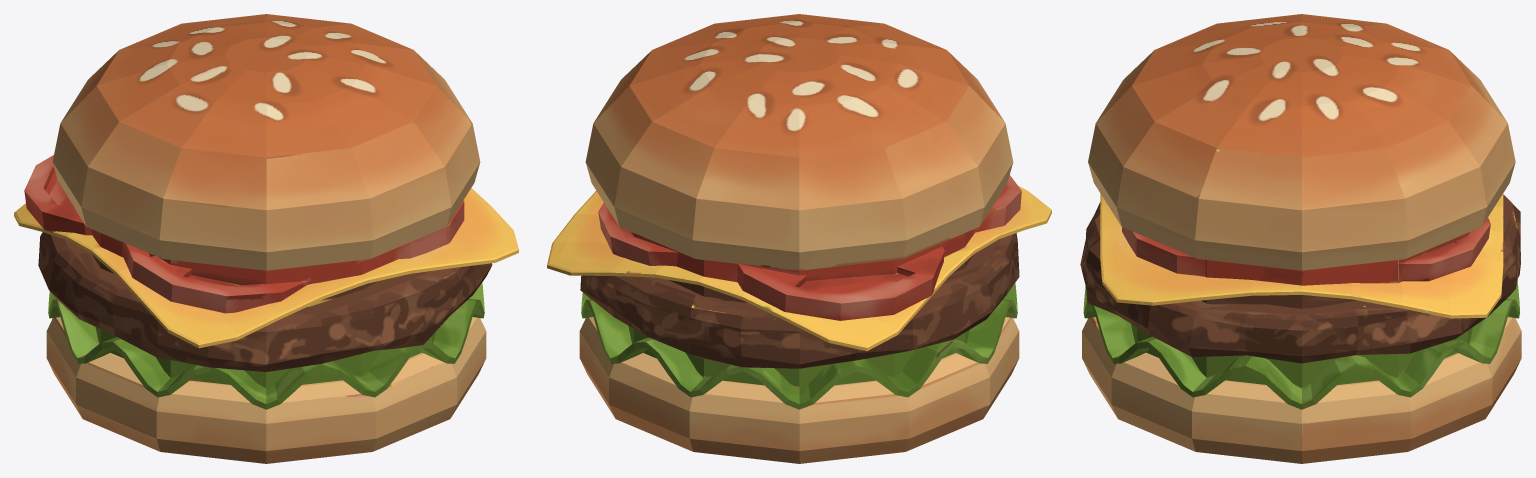
Rendered from 漢堡_塗色完成2.fbx.
The picture shows the model from 3 angles, left to right: view 1: azimuth 30°, elevation 25°; view 2: azimuth 150°, elevation 25°; view 3: azimuth 270°, elevation 25°; orthographic projection.
Parts seen in each view (by area): view 1: Circle.032; view 2: Circle.032; view 3: Circle.032.
Part boxes in pixels (x1,y1,x2,y2): Circle.032: (14, 14, 518, 463); Circle.032: (547, 14, 1051, 463); Circle.032: (1080, 14, 1521, 463).
Bounding box in the file's own units: 91.29 × 74.06 × 90.89.
